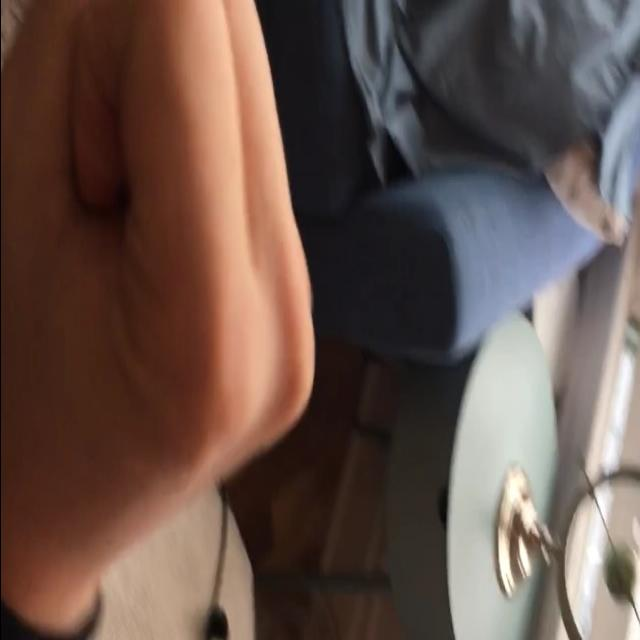Rock: (0, 0, 315, 580)
